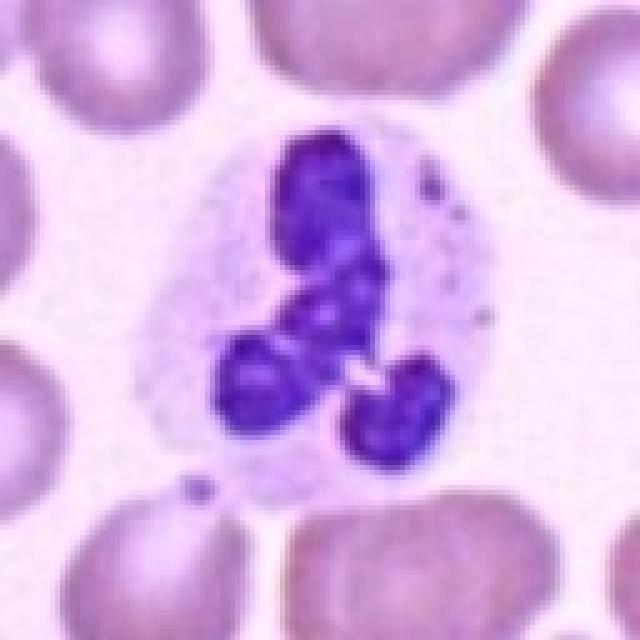neutro: (92, 113, 527, 492)
